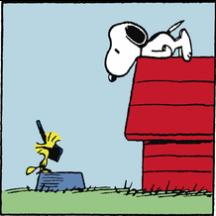snoopy: (104, 18, 193, 82)
